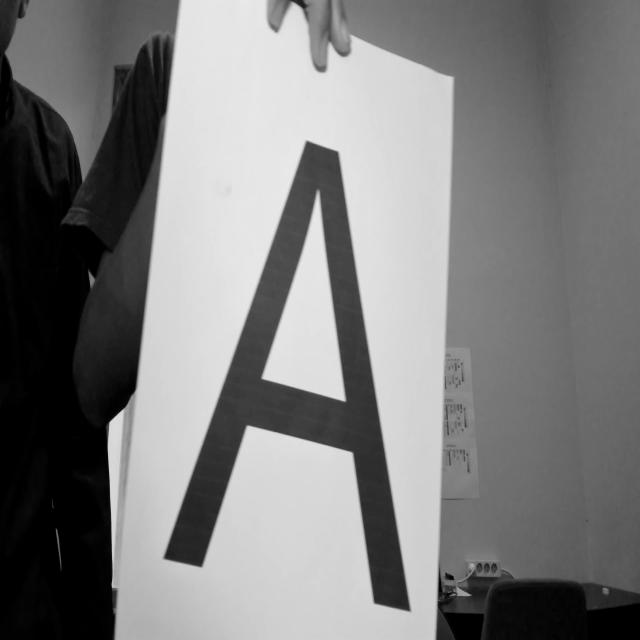a: (136, 89, 419, 637)
